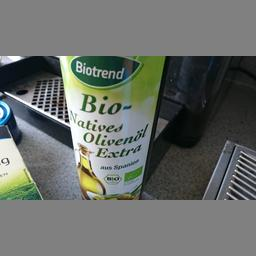oil: (57, 55, 166, 199)
